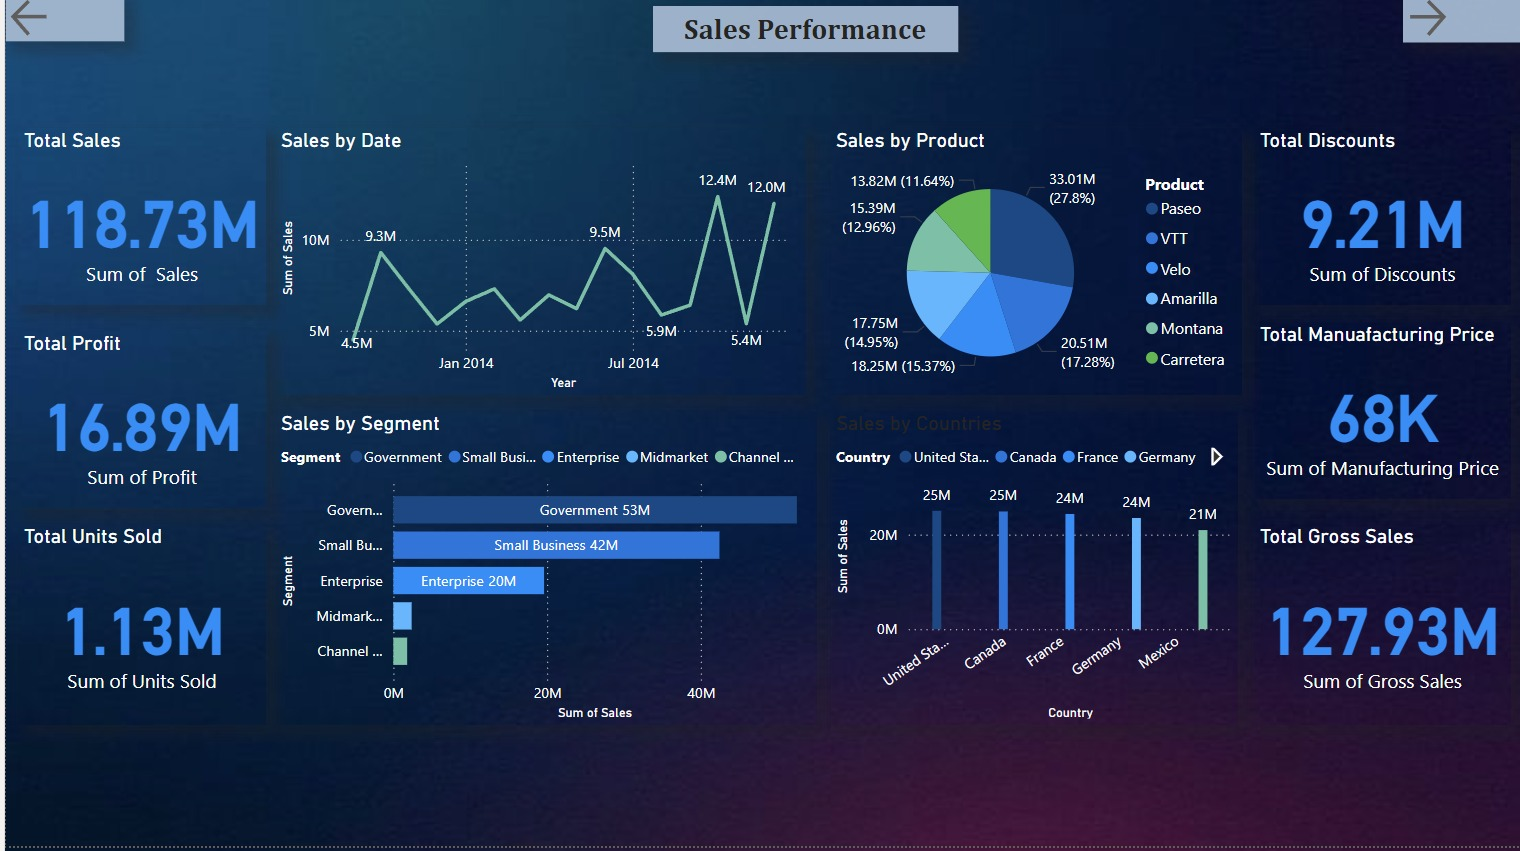

The dashboard page shown, as its layout file describes it:
{"tool":"powerbi","page":{"name":"SALES PERFORMANCE","canvas":[1280,720],"ordinal":1},"visuals":[{"type":"card","title":"Total Sales","fields":{"Values":["Sum(financials. Sales)"]},"box":[10.1,113.2,209.6,150.4],"z":0},{"type":"card","title":"Total Profit","fields":{"Values":["Sum(financials.Profit)"]},"box":[10.1,284.8,209.6,150.4],"z":1000},{"type":"clusteredColumnChart","title":"Sales by Countries","fields":{"Category":["financials.Country"],"Y":["Sum(financials. Sales)"],"Series":["financials.Country"]},"box":[696.3,352.4,344.8,265.4],"z":2000},{"type":"lineChart","title":"Sales by Date","fields":{"Y":["Sum(financials. Sales)"],"Category":["financials.Date.Variation.Date Hierarchy.Year","financials.Date.Variation.Date Hierarchy.Quarter","financials.Date.Variation.Date Hierarchy.Month","financials.Date.Variation.Date Hierarchy.Day"]},"box":[227.3,113.2,448.7,225.6],"z":3000},{"type":"textbox","box":[546.8,10.1,257.7,38.9],"z":4000},{"type":"card","title":"Total Units Sold","fields":{"Values":["Sum(financials.Units Sold)"]},"box":[10.1,447.9,209.6,169.9],"z":5000},{"type":"card","title":"Total Discounts","fields":{"Values":["Sum(financials.Discounts)"]},"box":[1054.6,113.2,217.2,150.4],"z":6000},{"type":"actionButton","box":[0,0,99.6,40.2],"z":7000},{"type":"actionButton","box":[1180.6,0,99.7,40.6],"z":8000},{"type":"barChart","title":"Sales by Segment","fields":{"Category":["financials.Segment"],"Y":["Sum(financials. Sales)"],"Series":["financials.Segment"]},"box":[227.3,352.4,458,265.4],"z":9000},{"type":"card","title":"Total Manuafacturing Price","fields":{"Values":["Sum(financials.Manufacturing Price)"]},"box":[1054.6,277.2,217.2,150.4],"z":10000},{"type":"card","title":"Total Gross Sales","fields":{"Values":["Sum(financials.Gross Sales)"]},"box":[1054.6,447.9,217.2,169.9],"z":11000},{"type":"pieChart","title":"Sales by Product","fields":{"Category":["financials.Product"],"Y":["Sum(financials. Sales)"]},"box":[696.3,113.2,348.2,225.6],"z":12000}]}

Visuals, with their boxes in screenshot pixels (x1, y1, x2, y2), scaled from the page's 1280x720 canvas onto the 1520x851 screenshot:
"Total Sales" card: bbox(12, 134, 261, 312)
"Total Profit" card: bbox(12, 337, 261, 514)
"Sales by Countries" clusteredColumnChart: bbox(827, 417, 1236, 730)
"Sales by Date" lineChart: bbox(270, 134, 803, 400)
textbox: bbox(649, 12, 955, 58)
"Total Units Sold" card: bbox(12, 529, 261, 730)
"Total Discounts" card: bbox(1252, 134, 1510, 312)
actionButton: bbox(0, 0, 118, 48)
actionButton: bbox(1402, 0, 1519, 48)
"Sales by Segment" barChart: bbox(270, 417, 814, 730)
"Total Manuafacturing Price" card: bbox(1252, 328, 1510, 505)
"Total Gross Sales" card: bbox(1252, 529, 1510, 730)
"Sales by Product" pieChart: bbox(827, 134, 1240, 400)
